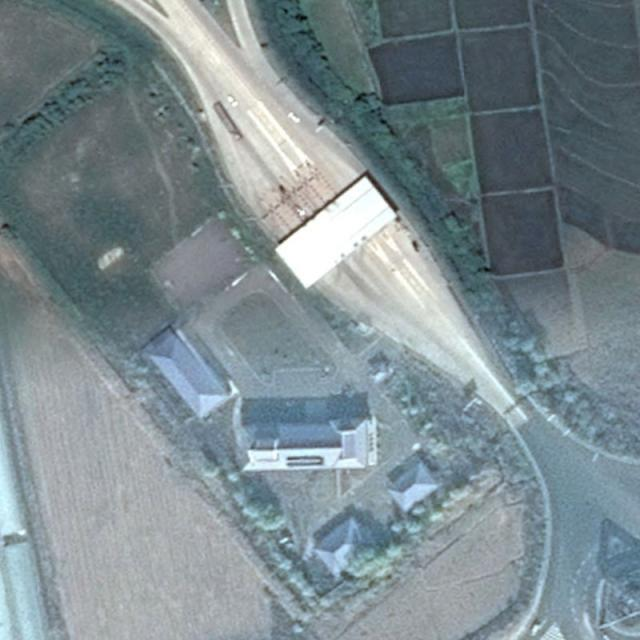vehicle: (213, 102, 242, 141), (287, 112, 301, 123), (227, 96, 238, 107)
